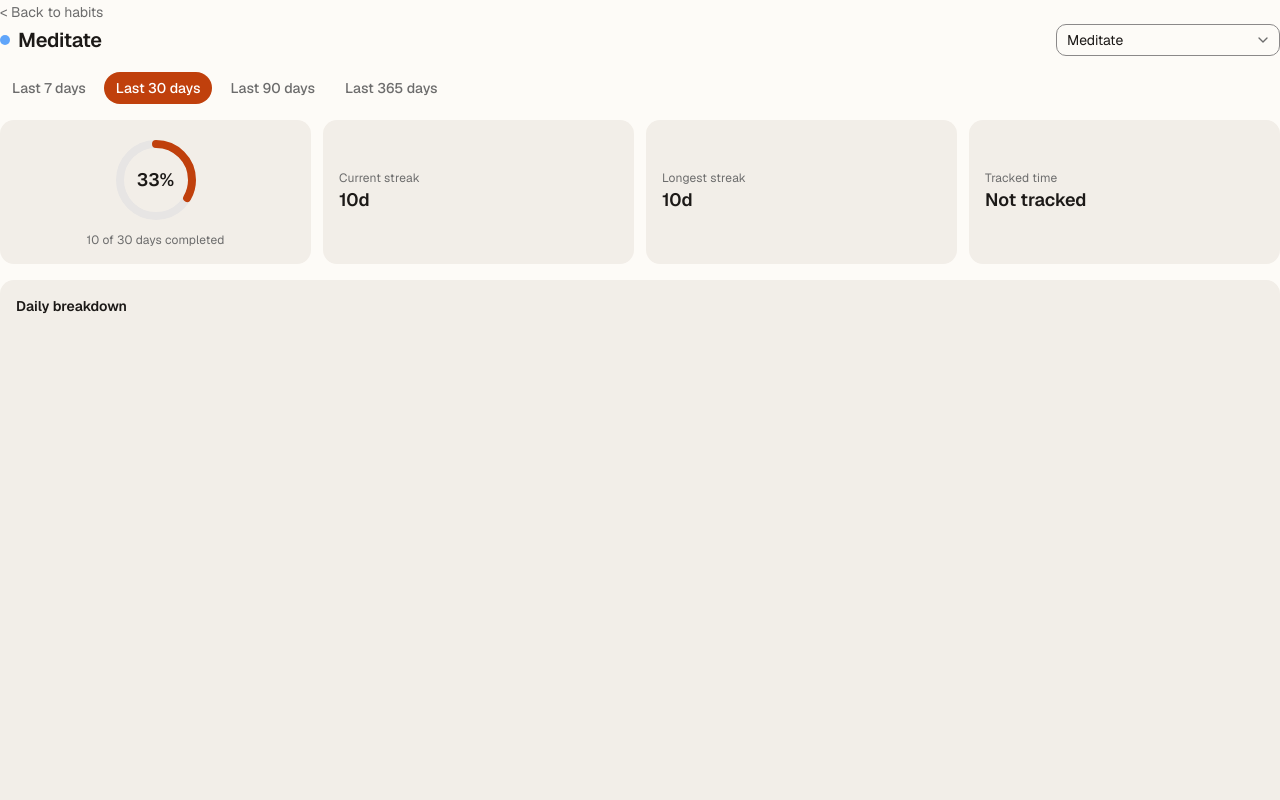
Test: HabitAnalyticsDetail › switches to the heatmap at the 365-day period tab
Click the tab "Last 365 days" at (391, 88), box [333, 72, 450, 104]
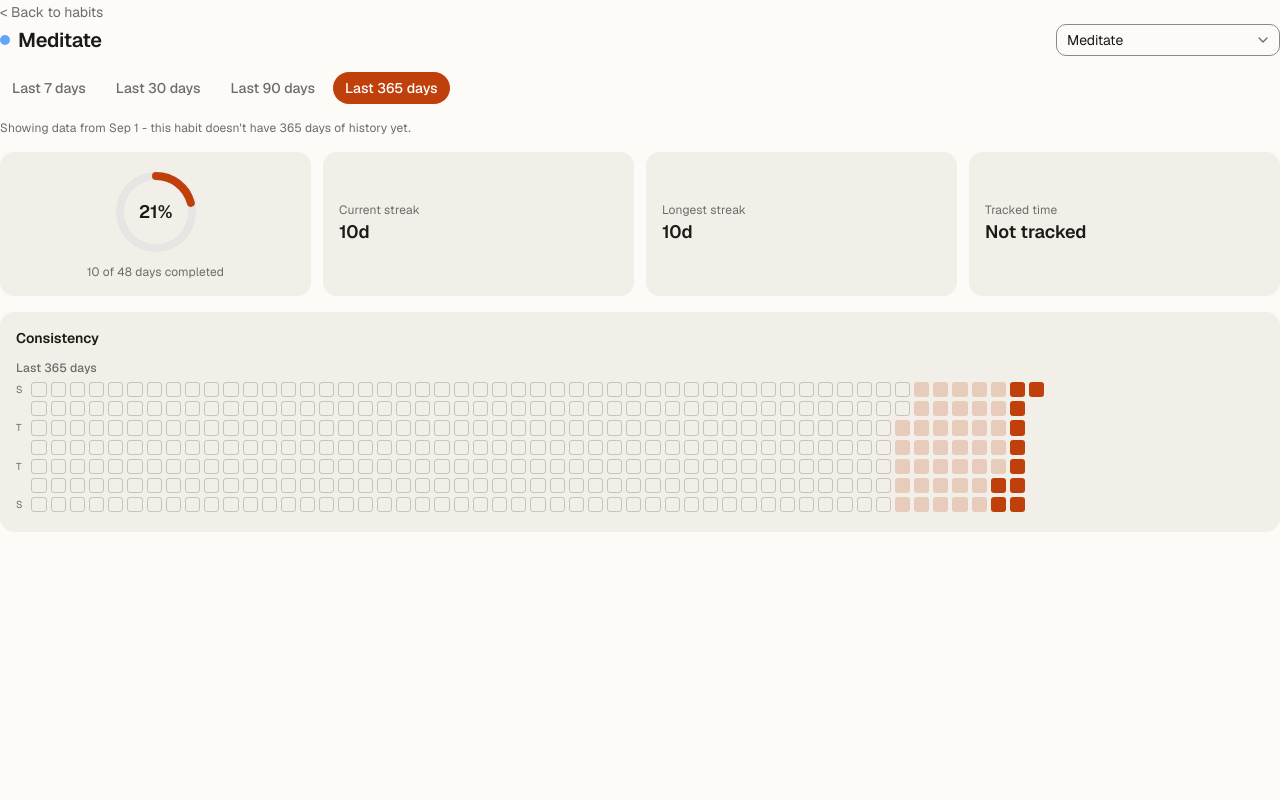
Now the heading "Daily breakdown" is gone
